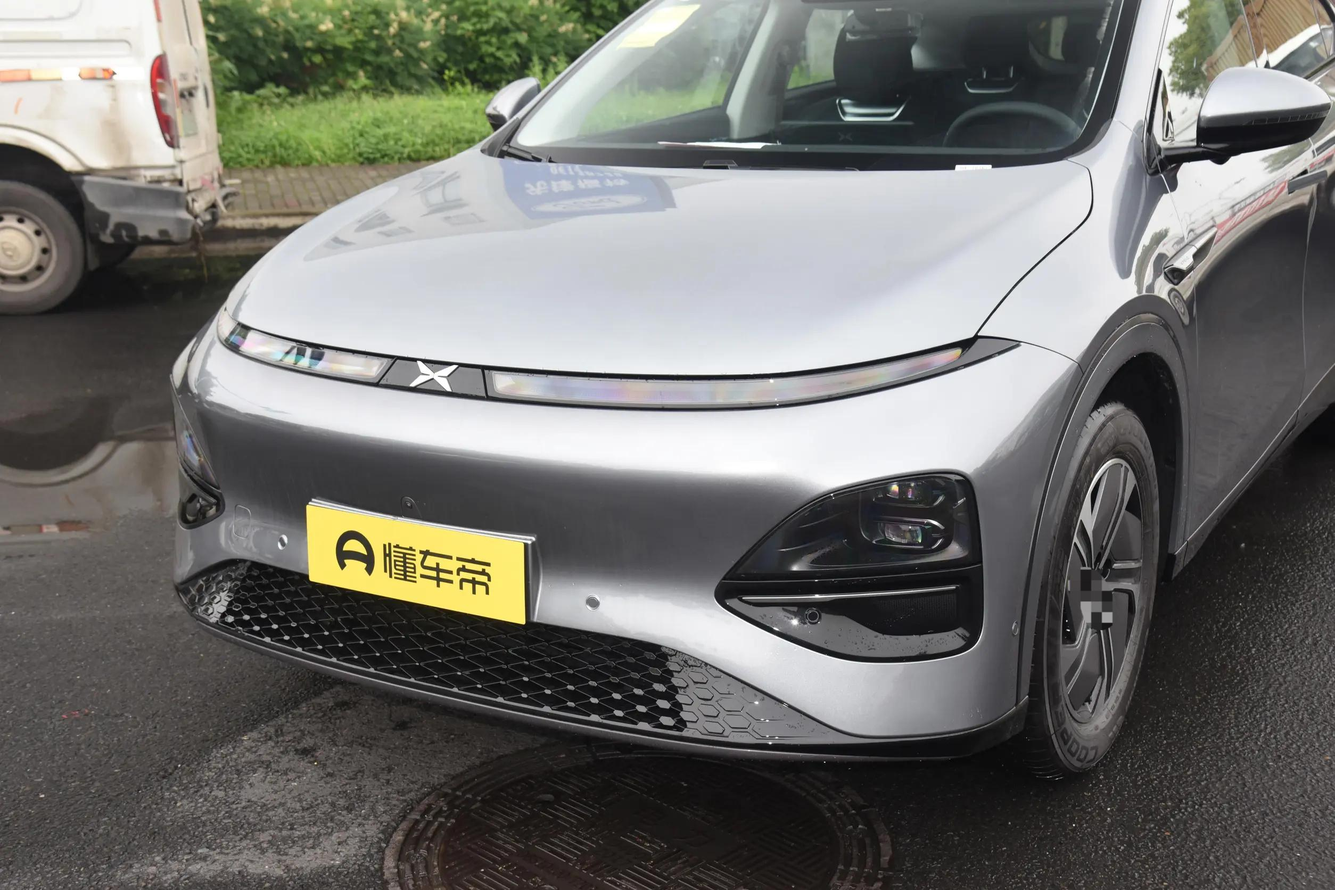XPeng Motors: (409, 361, 458, 392)
